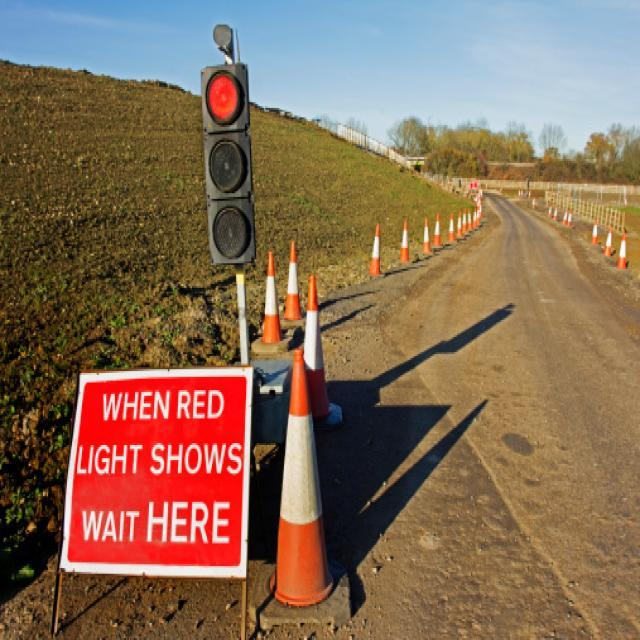traffic cone: (264, 346, 339, 609), (299, 274, 344, 430), (250, 251, 292, 354), (258, 252, 284, 345), (281, 240, 305, 321), (367, 223, 385, 278), (398, 216, 413, 266), (615, 230, 630, 271), (420, 217, 433, 259), (431, 214, 444, 252), (603, 227, 616, 258), (591, 223, 601, 246), (562, 208, 573, 228), (552, 207, 559, 222)
traffic light: (201, 63, 256, 265)
